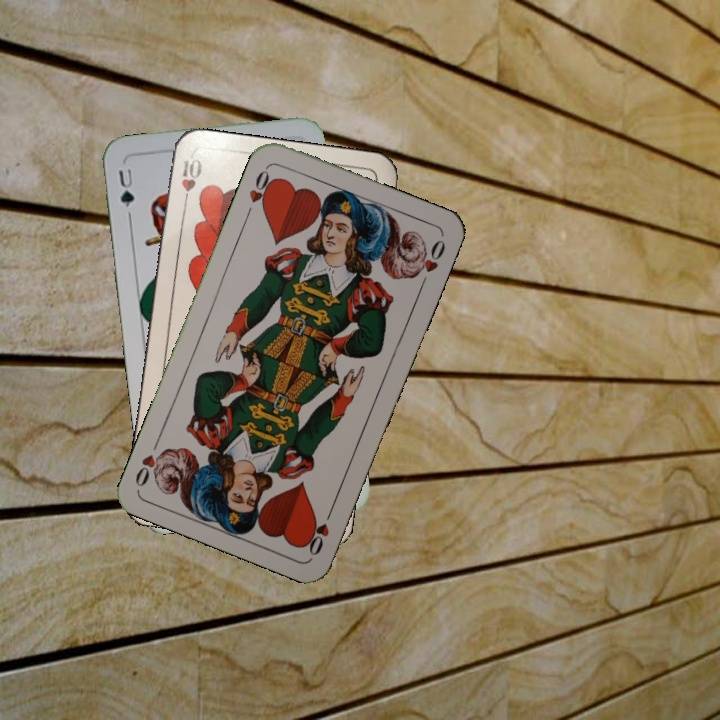GU: (114, 164, 137, 220)
H10: (177, 152, 204, 211)
HO: (241, 164, 278, 220), (302, 502, 337, 559)
